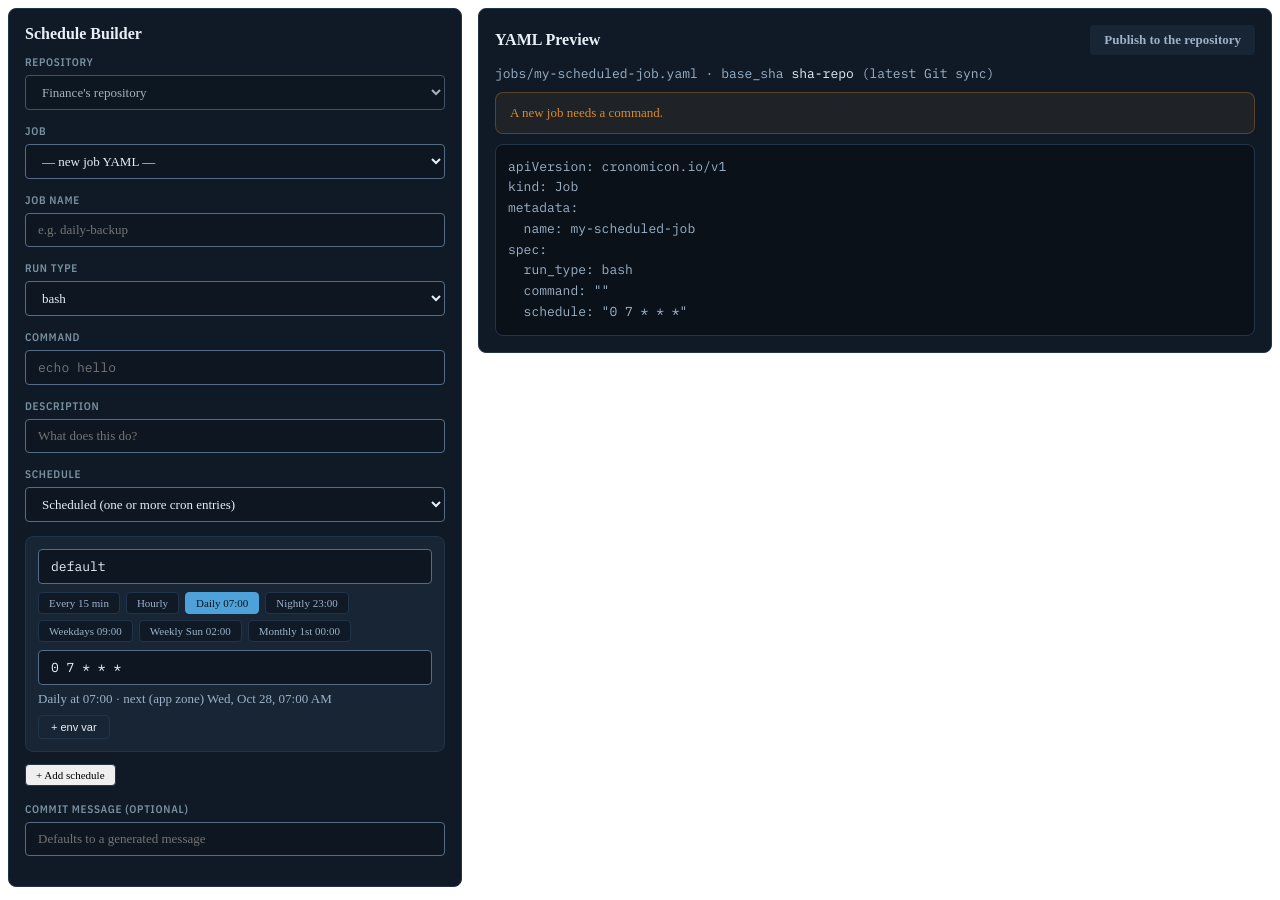
Test: Publish — per repository (R8) › offers no other repository for a job in one the caller may not publish to
Select "nightly" in the 2nd dropdown at (235, 162), box [25,144,445,179]
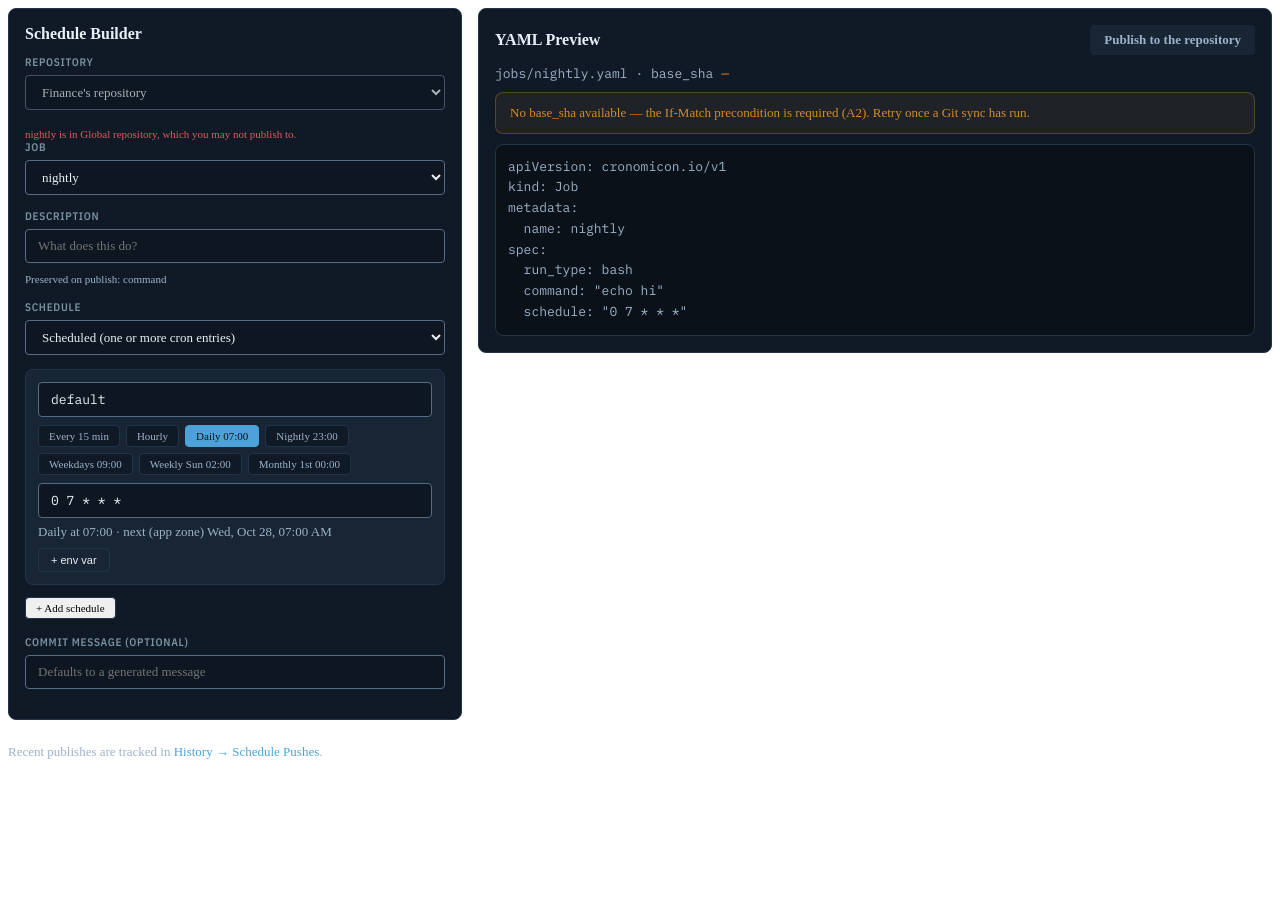
Check: the button "Publish to the repository" is disabled, box [1090,25,1255,55]
Check: the text "nightly is in Global repository, which you may not publish to." is shown, box [25,128,296,140]
